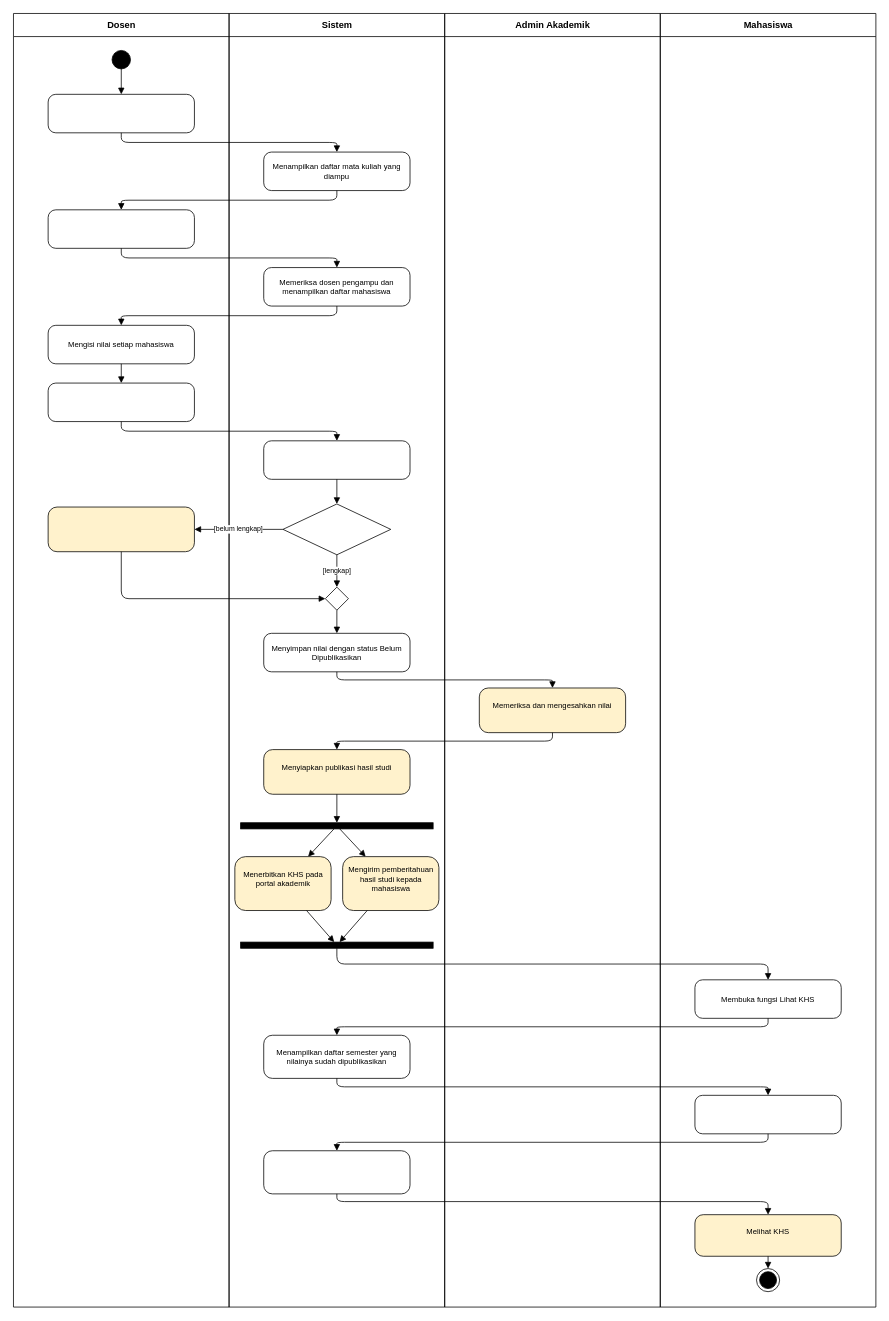
This 889x1321 diagram has some shape labels left out. The centre of each missing label's shape, as x and y in pixels:
"Melengkapi nilai mata kuliah yang belum lengkap" goes at point 120,529.
"Membuka fungsi Input Nilai Mata Kuliah" goes at point 120,113.
"Memeriksa kelengkapan nilai" goes at point 336,459.
"Memilih mata kuliah" goes at point 120,228.
"Memilih semester" goes at point 767,1114.
"Menampilkan KHS dengan nilai yang sudah dipublikasikan" goes at point 336,1172.
"Menyimpan nilai" goes at point 120,402.
"Nilai sudah lengkap?" goes at point 336,529.
